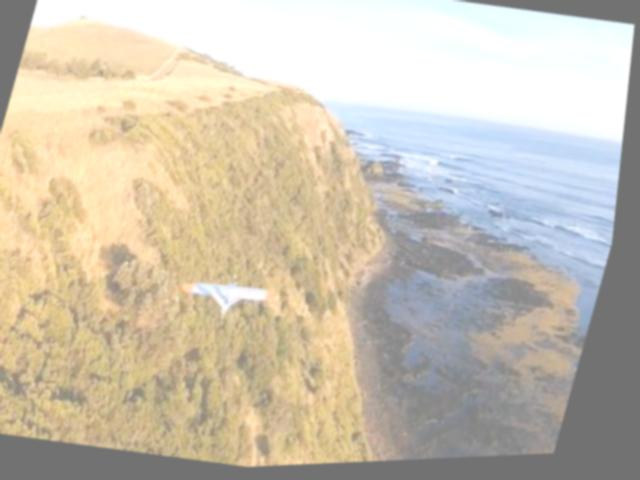uav: (180, 267, 292, 329)
